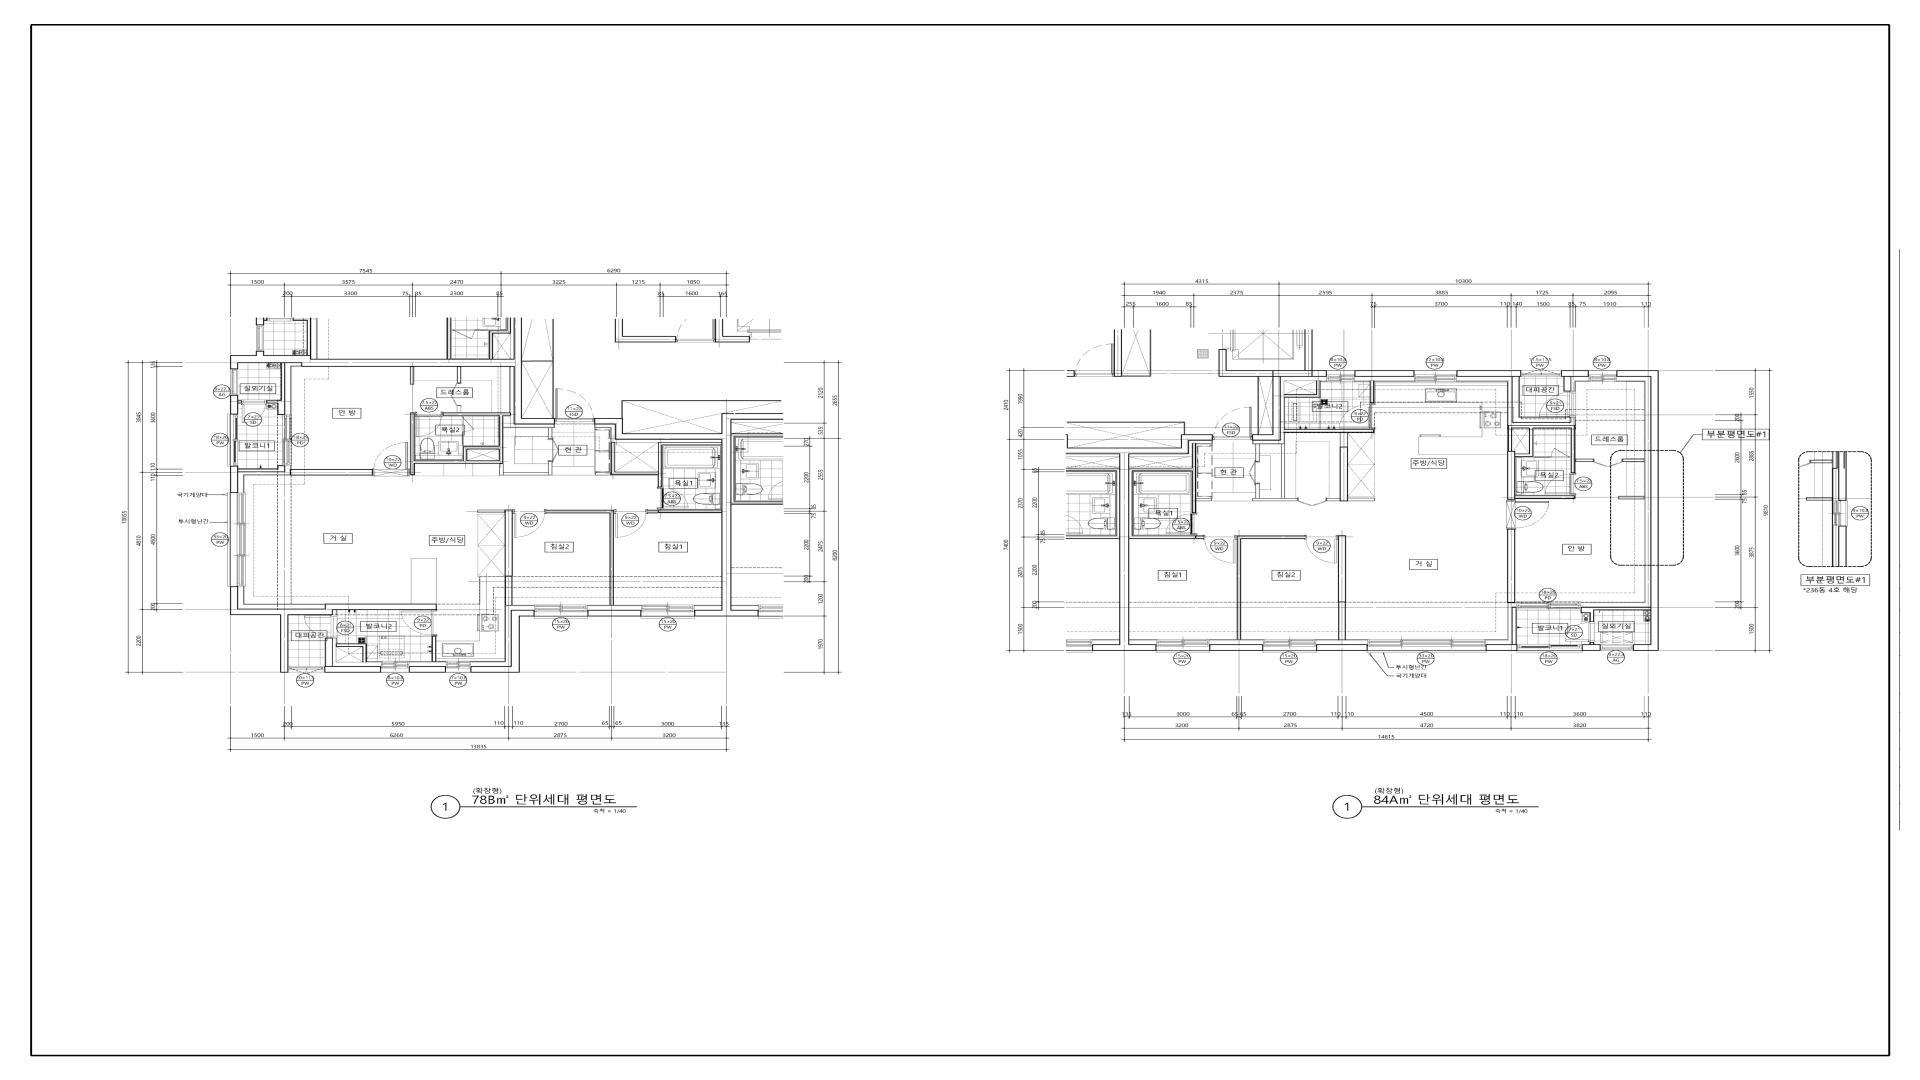door: (1213, 407, 1253, 440), (555, 389, 595, 422), (1507, 500, 1549, 529), (373, 442, 410, 475), (1539, 392, 1576, 417), (1204, 535, 1237, 563), (1305, 535, 1338, 563), (615, 510, 647, 538), (513, 510, 546, 538), (1340, 404, 1374, 430), (401, 611, 436, 636), (305, 615, 338, 638), (414, 413, 443, 436), (1166, 513, 1196, 535), (1545, 473, 1576, 496), (658, 488, 688, 510), (241, 400, 266, 423), (1565, 622, 1594, 642), (1249, 462, 1259, 484), (451, 384, 462, 406), (549, 439, 559, 462), (1298, 498, 1327, 506), (1594, 459, 1622, 467), (1551, 448, 1571, 458), (462, 417, 473, 431)
wall: (231, 318, 555, 425), (595, 413, 732, 616), (1581, 371, 1659, 651), (1120, 434, 1213, 651), (231, 587, 436, 673), (1581, 377, 1651, 607), (1253, 377, 1374, 501), (1218, 349, 1327, 440), (1237, 535, 1305, 640), (546, 510, 615, 605), (410, 413, 512, 475), (1457, 371, 1572, 423), (1457, 377, 1576, 425), (1507, 425, 1576, 500), (471, 611, 534, 673), (471, 605, 534, 666), (504, 367, 555, 439), (595, 425, 721, 442), (324, 638, 381, 673), (239, 587, 324, 609), (522, 360, 554, 418), (231, 465, 285, 493), (239, 465, 291, 493), (1486, 607, 1516, 651), (332, 638, 381, 666), (1129, 440, 1213, 456), (1486, 603, 1516, 645), (285, 363, 302, 414), (1338, 535, 1346, 640), (505, 510, 513, 605), (500, 462, 553, 475), (1561, 371, 1589, 392), (1507, 529, 1515, 603), (1284, 381, 1320, 397), (336, 644, 367, 662), (290, 469, 373, 475), (1513, 429, 1530, 454), (1340, 447, 1348, 501), (1354, 371, 1415, 377), (1209, 645, 1263, 651), (1316, 645, 1367, 651), (1209, 640, 1263, 645), (588, 611, 641, 616), (588, 605, 641, 611), (1316, 640, 1367, 645), (1571, 377, 1589, 392), (409, 666, 446, 673), (1354, 377, 1415, 381), (231, 396, 241, 414), (409, 661, 446, 666), (1582, 642, 1601, 651), (1129, 640, 1156, 645), (695, 605, 721, 611), (433, 636, 436, 661), (1370, 381, 1374, 404), (1258, 377, 1259, 434), (477, 510, 505, 513), (410, 367, 414, 385), (1348, 498, 1374, 501), (458, 367, 462, 384), (1576, 459, 1594, 462), (595, 472, 612, 475), (1196, 498, 1212, 501), (462, 431, 464, 446), (1327, 498, 1340, 501), (458, 406, 462, 413), (1534, 456, 1551, 458), (332, 611, 338, 615)
window: (228, 493, 245, 587), (1367, 640, 1486, 653), (534, 605, 588, 618), (641, 605, 695, 618), (1263, 640, 1316, 653), (1156, 640, 1209, 653), (227, 414, 239, 465), (1516, 645, 1582, 653), (1516, 601, 1581, 609), (282, 414, 291, 465), (1415, 371, 1457, 381), (1589, 371, 1617, 382), (381, 661, 409, 673), (446, 661, 471, 673), (1327, 371, 1354, 381), (289, 666, 324, 674), (1522, 369, 1561, 376), (231, 369, 239, 396), (1601, 645, 1634, 650)
